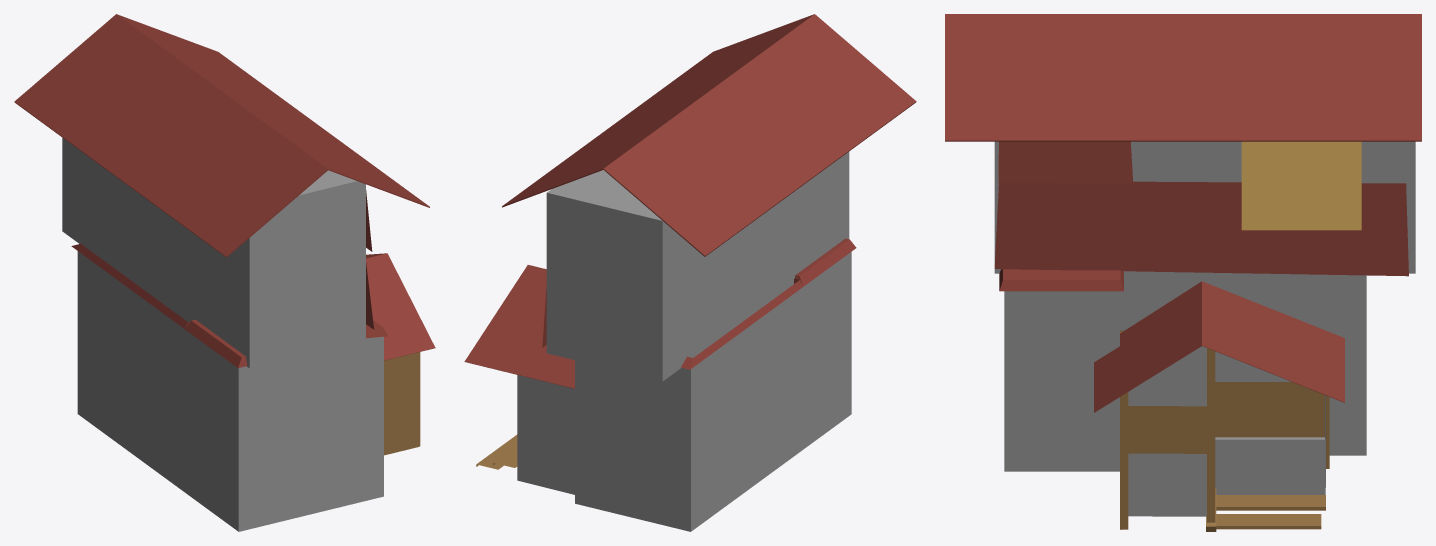
File: SariSariStore.fbx
3 views of the same model, side by side, from view 1: azimuth 30°, elevation 25°; view 2: azimuth 150°, elevation 25°; view 3: azimuth 270°, elevation 25° (orthographic). The views are drawn at different scales.
Visible parts, largest first — view 1: LowerBLD_2ndHouse, UpperRoof_2ndHouse, UpperBLD_2ndHouse, Rail_2ndHouse.001, Wall_2ndHouse.002, Rail_2ndHouse, Cube.023, UpperRails_2ndHouse.001; view 2: LowerBLD_2ndHouse, UpperRoof_2ndHouse, UpperBLD_2ndHouse, Rail_2ndHouse.001, Wall_2ndHouse.001, Rail_2ndHouse; view 3: UpperRoof_2ndHouse, UpperRails_2ndHouse.001, LowerBLD_2ndHouse, Rail_2ndHouse.001, Window_2ndHouse, BackWall_2ndHouse, UpperBLD_2ndHouse, Wall_2ndHouse, Wall_2ndHouse.001, Rail_2ndHouse, Stair2_2ndHouse, Stair_2ndHouse (+3 smaller).
Boxes of the visible parts, x1,y1,x2,y2 form: LowerBLD_2ndHouse: (77,251,383,531); UpperRoof_2ndHouse: (14,14,429,257); UpperBLD_2ndHouse: (62,138,365,368); Rail_2ndHouse.001: (366,253,435,360); Wall_2ndHouse.002: (384,353,418,455); Rail_2ndHouse: (71,243,387,368); Cube.023: (414,352,420,447); UpperRails_2ndHouse.001: (366,190,374,329); LowerBLD_2ndHouse: (575,252,851,531); UpperRoof_2ndHouse: (502,14,916,256); UpperBLD_2ndHouse: (546,152,849,381); Rail_2ndHouse.001: (464,265,574,388); Wall_2ndHouse.001: (517,375,574,494); Rail_2ndHouse: (681,238,856,369); UpperRoof_2ndHouse: (945,14,1421,141); UpperRails_2ndHouse.001: (994,141,1408,276); LowerBLD_2ndHouse: (1004,273,1366,471); Rail_2ndHouse.001: (1094,281,1344,412); Window_2ndHouse: (1241,141,1361,230); BackWall_2ndHouse: (1128,382,1321,453); UpperBLD_2ndHouse: (994,141,1415,273); Wall_2ndHouse: (1128,346,1206,516); Wall_2ndHouse.001: (1215,395,1325,494); Rail_2ndHouse: (999,269,1123,291); Stair2_2ndHouse: (1216,495,1325,510); Stair_2ndHouse: (1216,514,1321,529).
Size of the model in its own units: 476 by 619 by 632.
